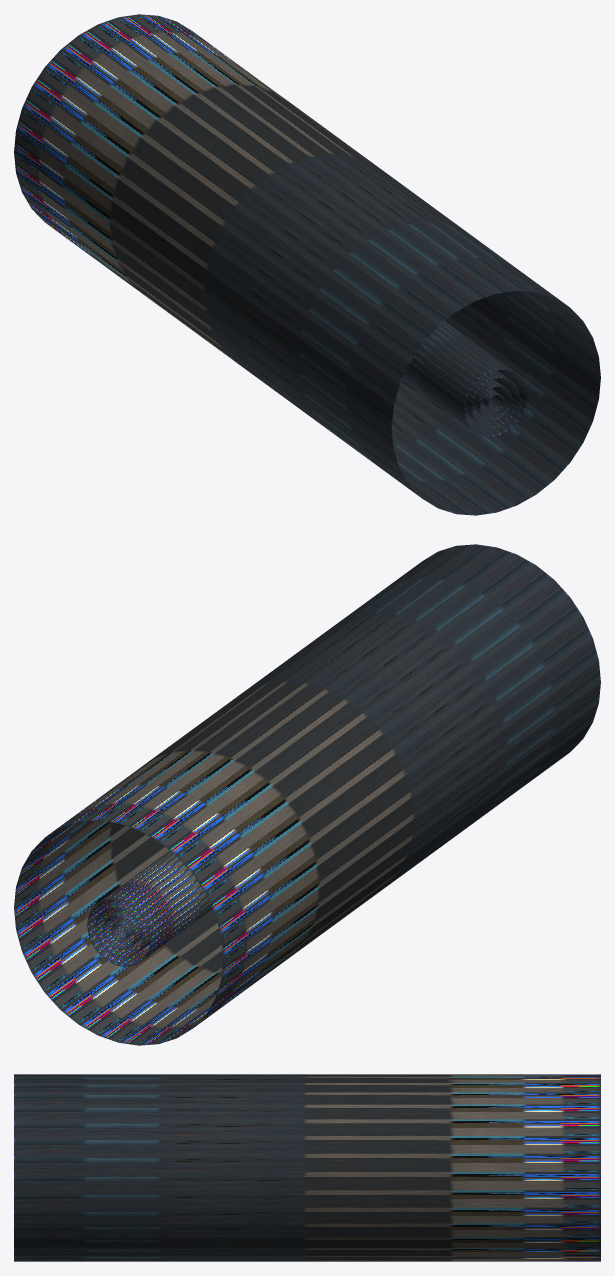
The model's file is Small Dark Energy Pipe window.obj.
The picture shows the model from 3 angles, top to bottom: view 1: azimuth 30°, elevation 25°; view 2: azimuth 150°, elevation 25°; view 3: azimuth 270°, elevation 25°; orthographic projection. The views are drawn at different scales.
Parts seen in each view (by area): view 1: Cylinder.001_Cylinder.009; view 2: Cylinder.001_Cylinder.009; view 3: Cylinder.001_Cylinder.009.
Part boxes in pixels (box(x1,y1,x2,y2)): Cylinder.001_Cylinder.009: box(14, 14, 600, 515); Cylinder.001_Cylinder.009: box(14, 544, 600, 1045); Cylinder.001_Cylinder.009: box(14, 1074, 600, 1261).
Size of the model in its own units: 0.32 by 0.32 by 1.
